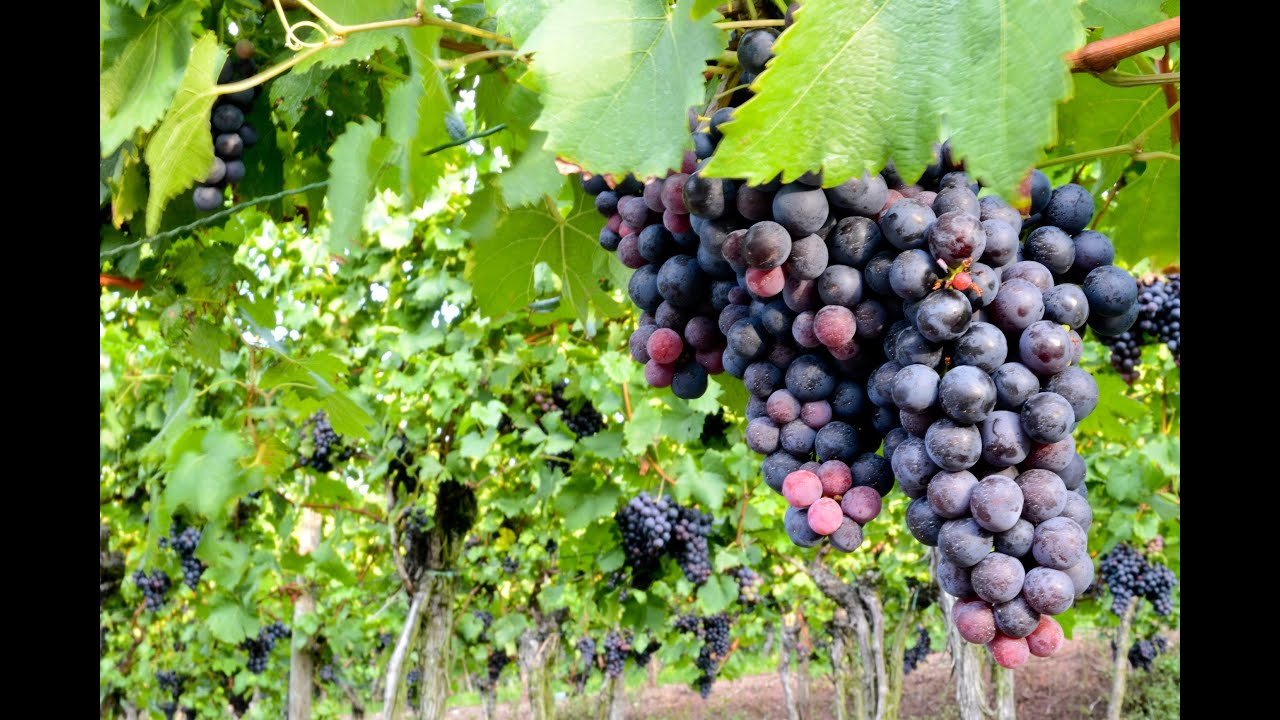Black grapes: (845, 136, 1139, 682), (685, 99, 928, 569)
